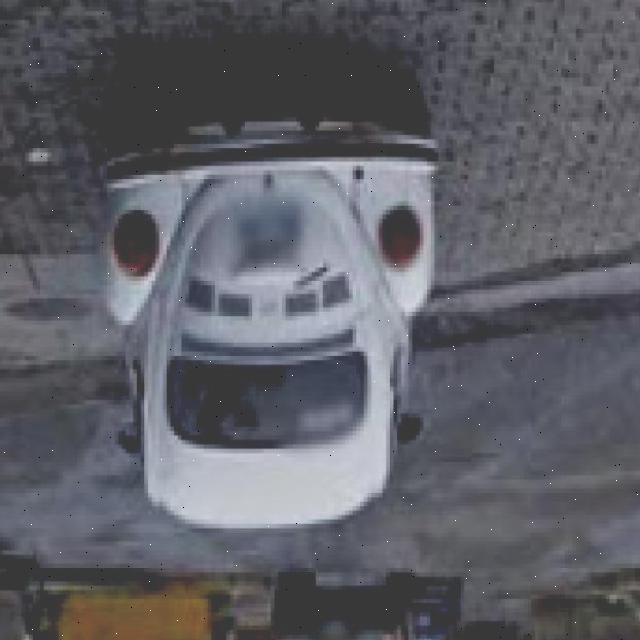car: (93, 75, 433, 527)
